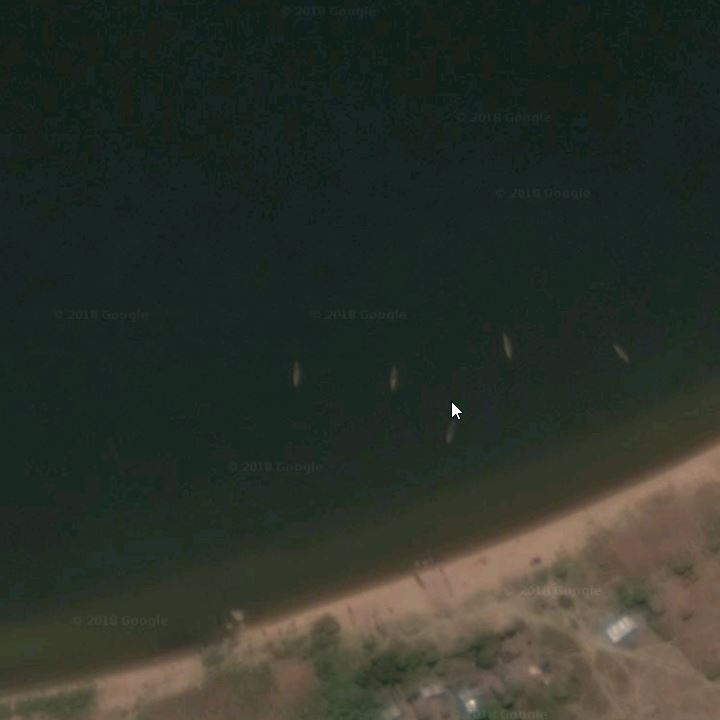boat: (434, 558, 458, 607), (609, 338, 638, 372), (403, 560, 431, 594), (368, 599, 391, 638), (384, 358, 405, 400), (286, 353, 306, 396), (499, 328, 517, 367), (341, 591, 357, 630), (446, 413, 458, 448)
